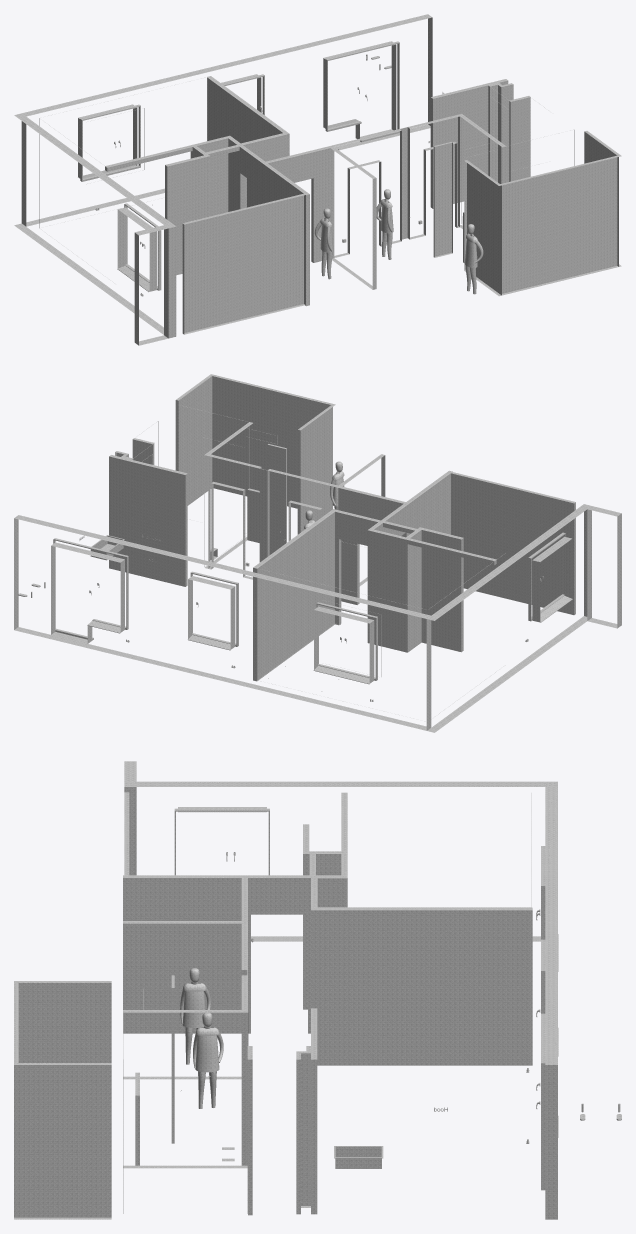
3 views of the same model, one above another, from view 1: azimuth 30°, elevation 25°; view 2: azimuth 150°, elevation 25°; view 3: azimuth 270°, elevation 25° (orthographic). The views are drawn at different scales.
Size of the model in its own units: 11.38 by 2.74 by 9.63.
1 material, 1 textured.
